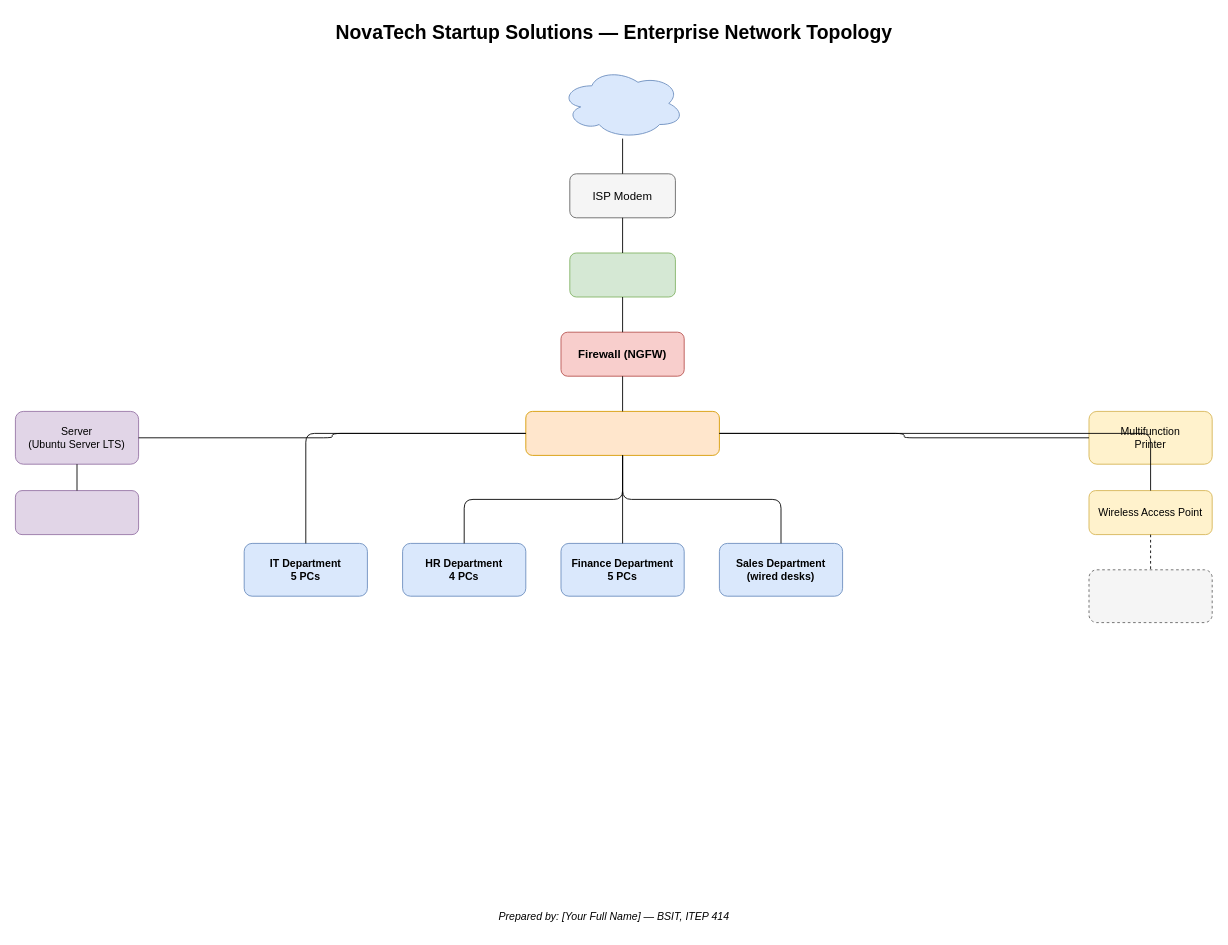
This 1228x945 diagram has some shape labels left out. Each missing label, with the centre of its shape:
Core Switch (24-port Managed): (622,433)
Internet: (622,103)
NAS Storage: (77,512)
Router: (622,274)
Sales Laptops (Wi-Fi, 6 units): (1150,596)
